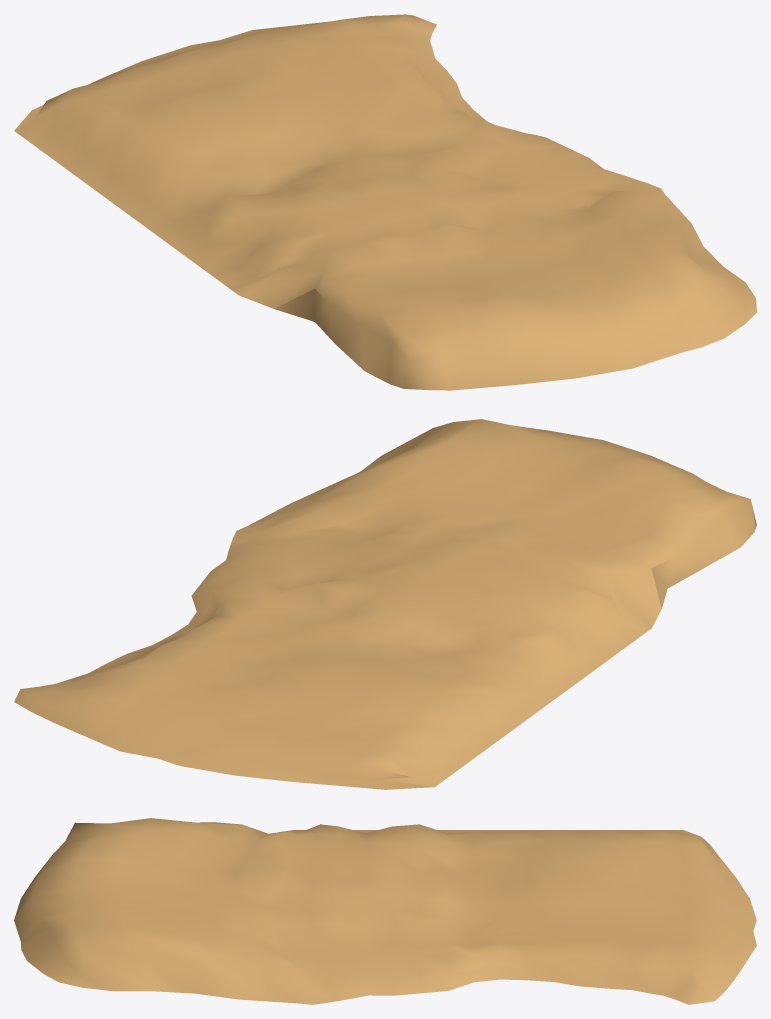
Rendered from Insel_Boden.fbx.
3 views of the same model, one above another, from view 1: azimuth 30°, elevation 25°; view 2: azimuth 150°, elevation 25°; view 3: azimuth 270°, elevation 25° (orthographic). The views are drawn at different scales.
Parts seen in each view (by area): view 1: Boden_Insel; view 2: Boden_Insel; view 3: Boden_Insel.
Part boxes in pixels (x1,y1,x2,y2): Boden_Insel: [14, 14, 756, 390]; Boden_Insel: [14, 419, 756, 789]; Boden_Insel: [14, 818, 756, 1004].
Size of the model in its own units: 25932 by 2522 by 46556.
